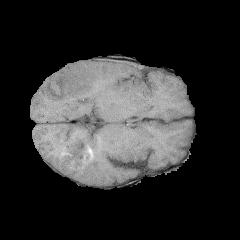glioma: (43, 61, 150, 170)
